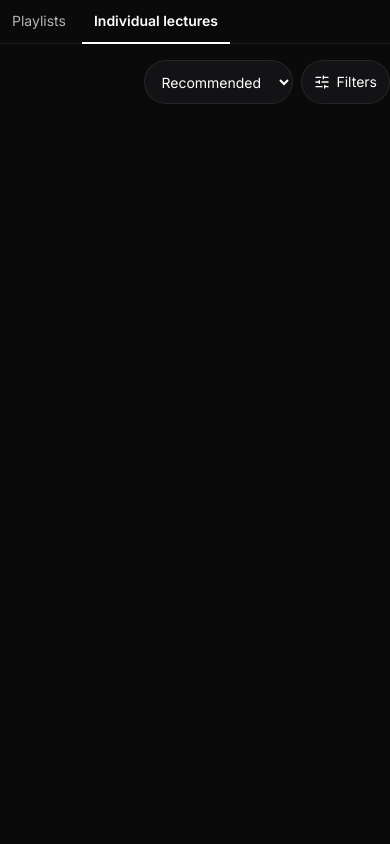
Test: the mobile filter drawer's Show button › keeps the singular when exactly one lesson loaded
The image size is (390, 844).
Click the button "Filters". click: [346, 82]
box: [302,60,389,104]
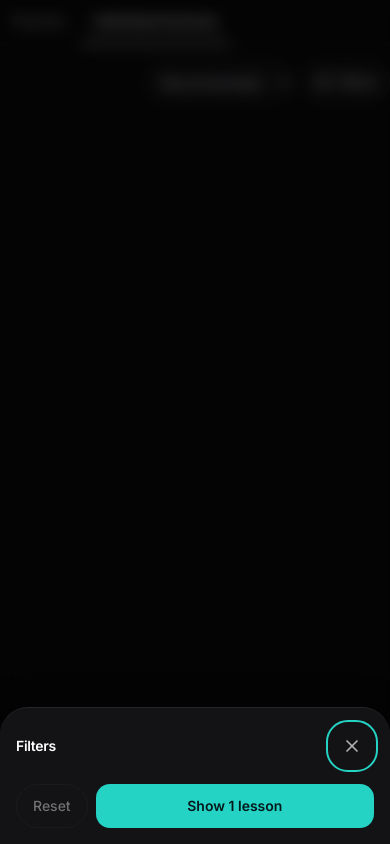
Now the button "Show 1 lesson" is shown, box [96,784,374,828]
